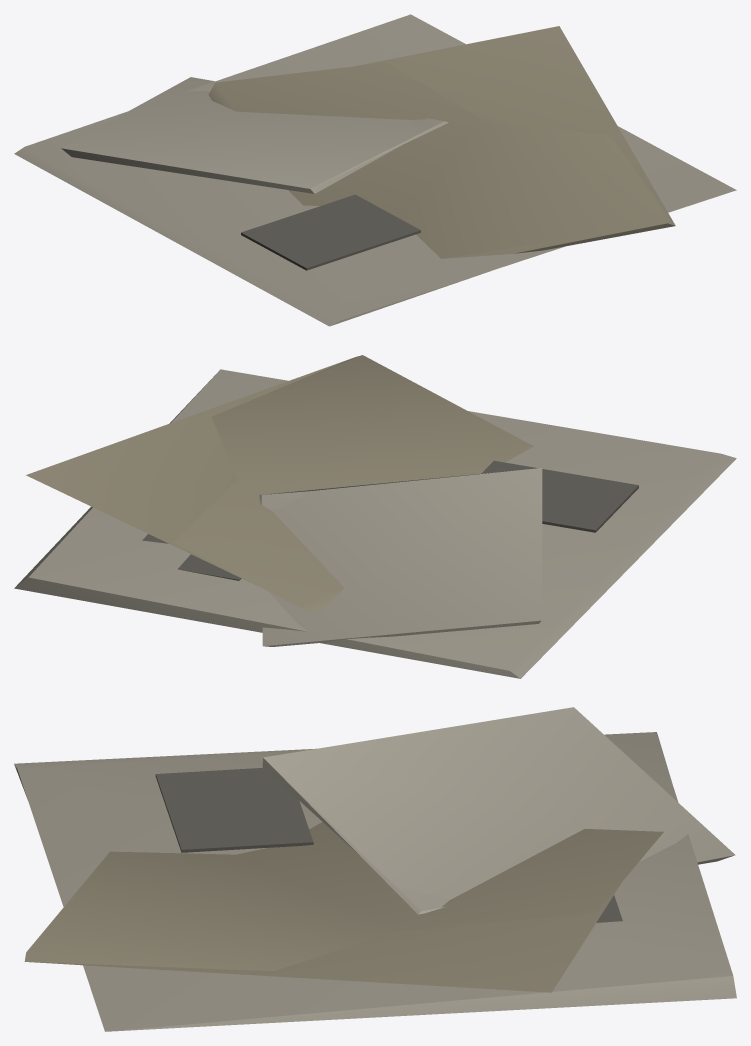
Rendered from 31_journal.fbx.
3 views of the same model, one above another, from view 1: azimuth 30°, elevation 25°; view 2: azimuth 150°, elevation 25°; view 3: azimuth 270°, elevation 25° (orthographic). The views are drawn at different scales.
Parts seen in each view (by area): view 1: Journal; view 2: Journal; view 3: Journal.
Part boxes in pixels (x1=…): Journal: x1=14, y1=14, x2=736, y2=326; Journal: x1=14, y1=355, x2=736, y2=678; Journal: x1=14, y1=707, x2=736, y2=1031.
Bounding box in the file's own units: 0.252 × 0.028 × 0.252.
1 material, 1 textured.
